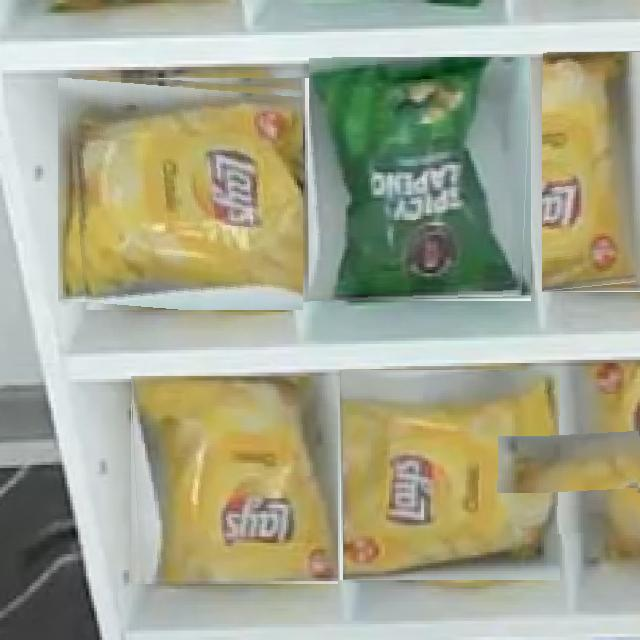Plastic: (65, 71, 303, 310), (309, 57, 532, 301), (343, 367, 558, 583), (130, 375, 338, 584), (542, 52, 640, 292), (541, 394, 640, 535)
